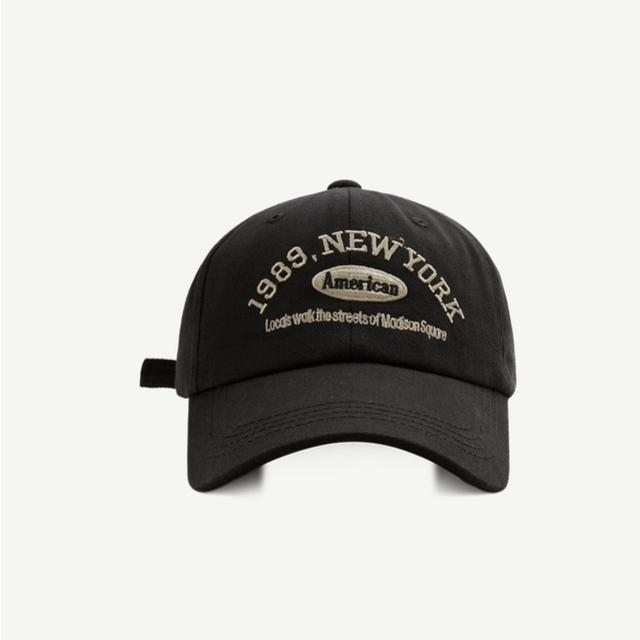Nonhelmet: (137, 174, 521, 497)
